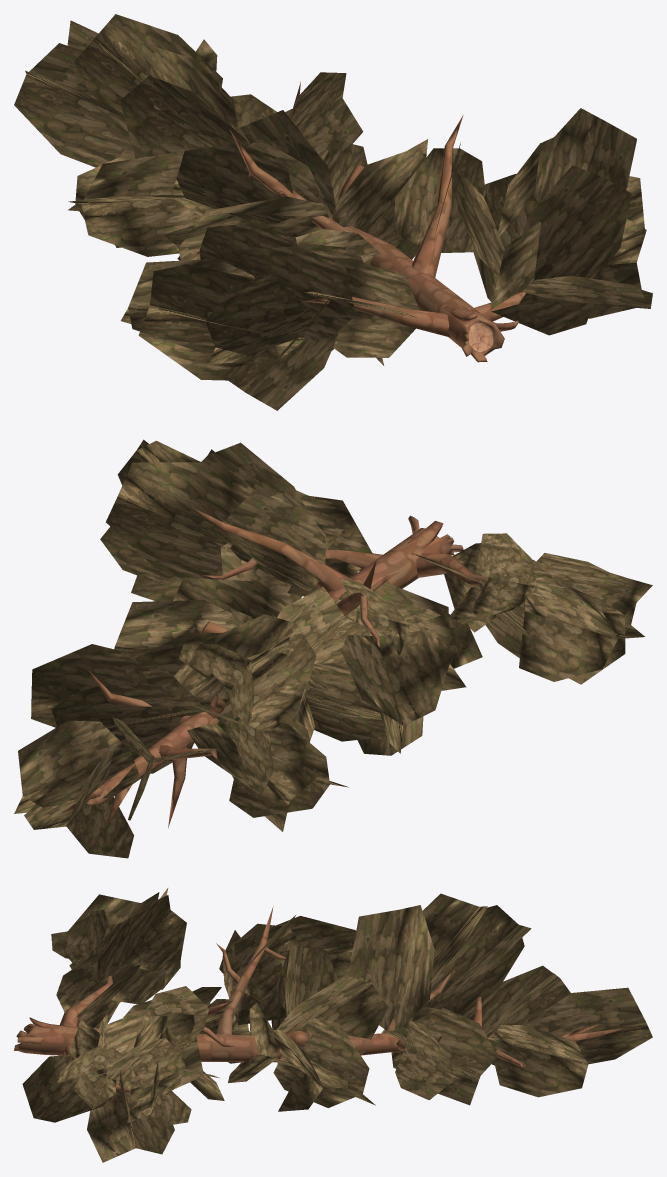
Rendered from P_FirFallen3.obj.
The picture shows the model from 3 angles, top to bottom: view 1: azimuth 30°, elevation 25°; view 2: azimuth 150°, elevation 25°; view 3: azimuth 270°, elevation 25°; orthographic projection. The views are drawn at different scales.
Size of the model in its own units: 12.1 by 5.34 by 16.19.
